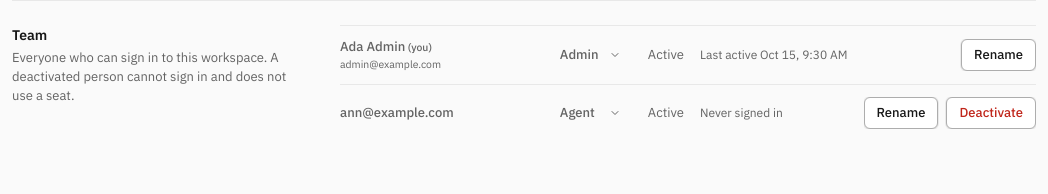
Test: a member without a name is renamed from an empty field that shows the email, and cancel changes nothing
The image size is (1048, 194).
Click the button with aria-label "Rename ann@example.com" at (901, 113), box [864, 97, 938, 129]
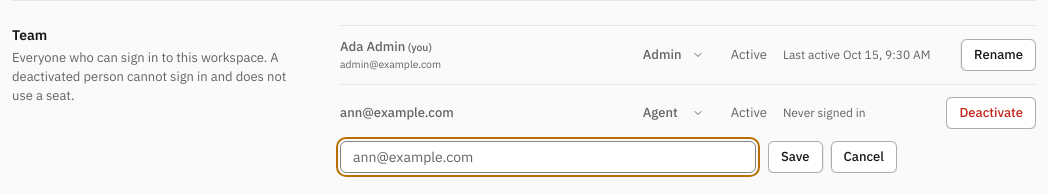
Result: the field named "Display name of ann@example.com" is empty at [340, 141, 756, 173]
Click the button "Cancel" at (864, 157), box [831, 141, 897, 173]
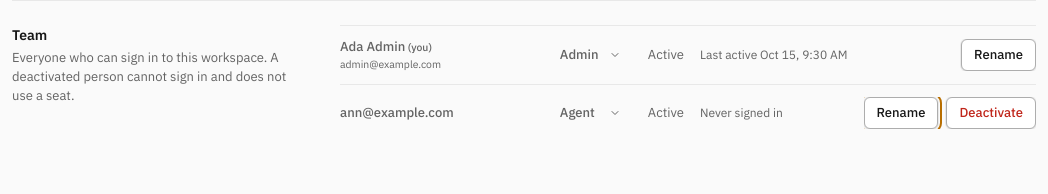
Result: the field is gone
